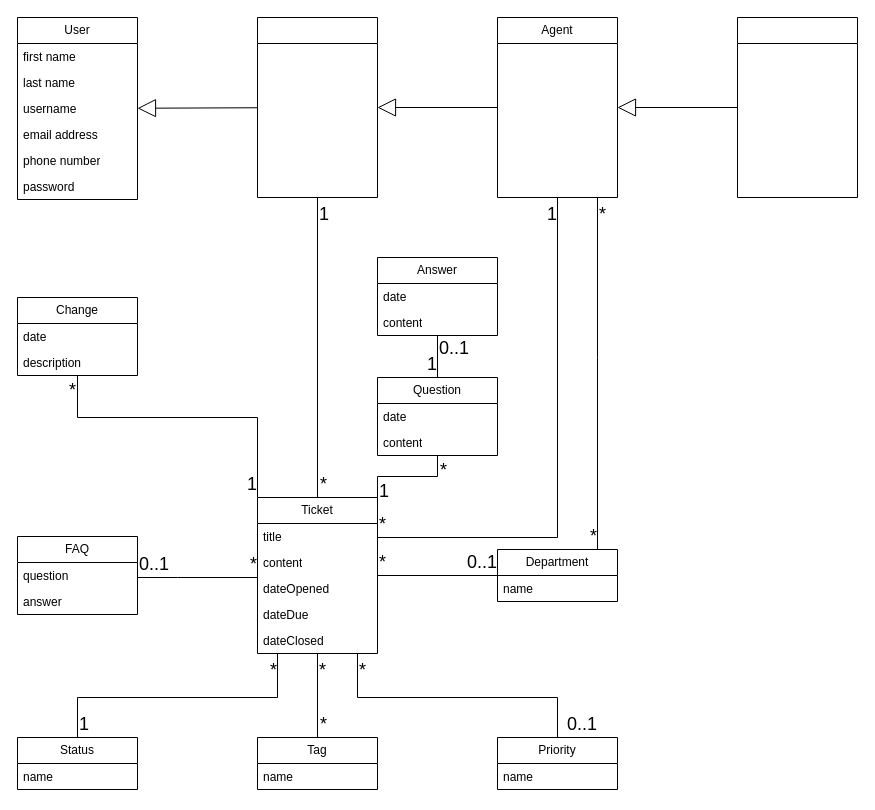
Image size: 875x810. Some labels were removed from this diagram. The centre of each missing label's shape, as x and y in pixels:
Admin: the point at 797,107
Client: the point at 317,107
